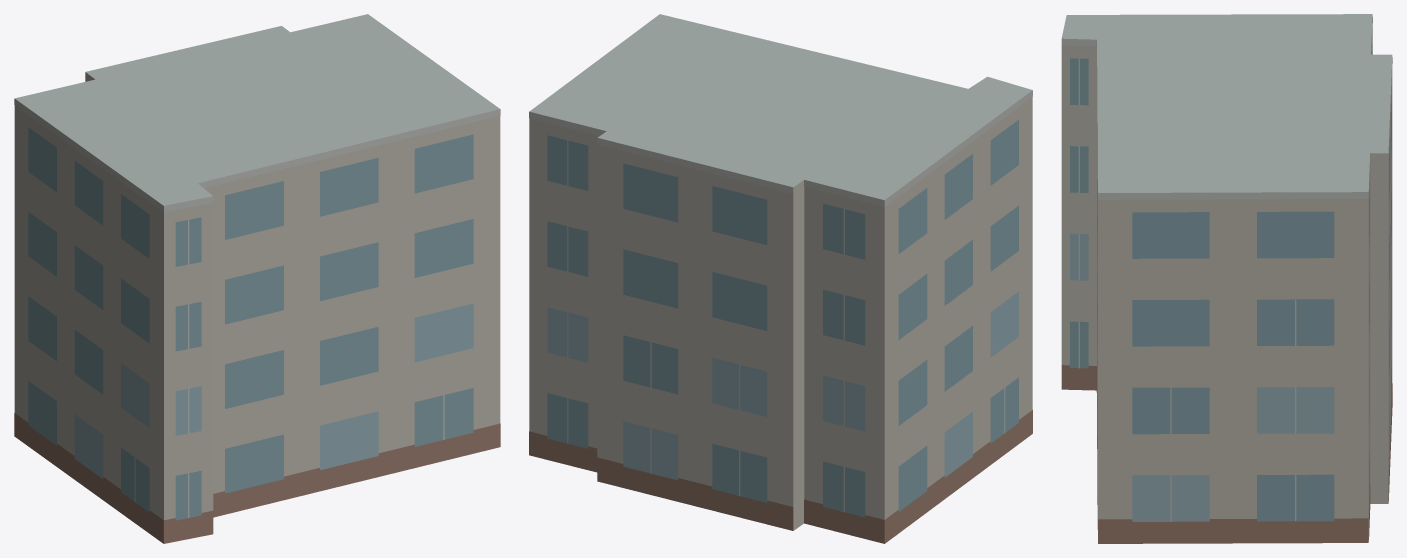
Rendered from survey-upis-32823808.glb.
3 renders of one model, left to right at view 1: azimuth 30°, elevation 25°; view 2: azimuth 150°, elevation 25°; view 3: azimuth 270°, elevation 25°, orthographic. The views are drawn at different scales.
Visible parts, largest first — view 1: survey-upis-32823808.tmp; view 2: survey-upis-32823808.tmp; view 3: survey-upis-32823808.tmp.
Part boxes in pixels (x1,y1,x2,y2): survey-upis-32823808.tmp: (14,14,500,543); survey-upis-32823808.tmp: (529,14,1032,543); survey-upis-32823808.tmp: (1061,14,1392,543).
Size of the model in its own units: 13.69 by 12.5 by 10.69.
